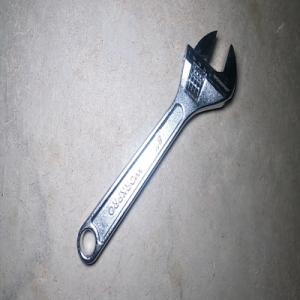Wrench: (76, 30, 236, 264)
